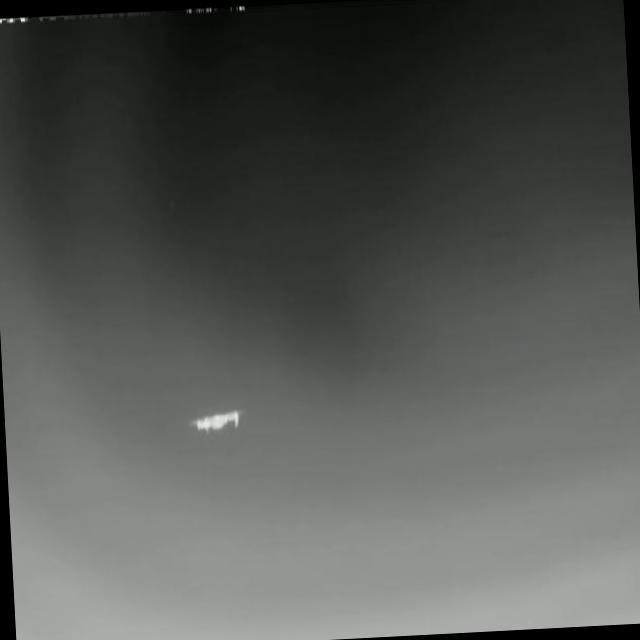DRONE: (182, 399, 252, 444)
